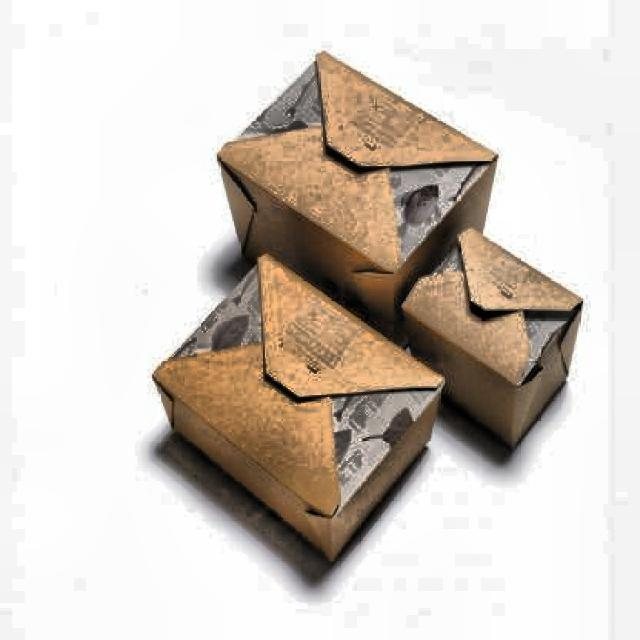Cardbox: (133, 265, 444, 553), (225, 53, 458, 298), (386, 220, 599, 435)
